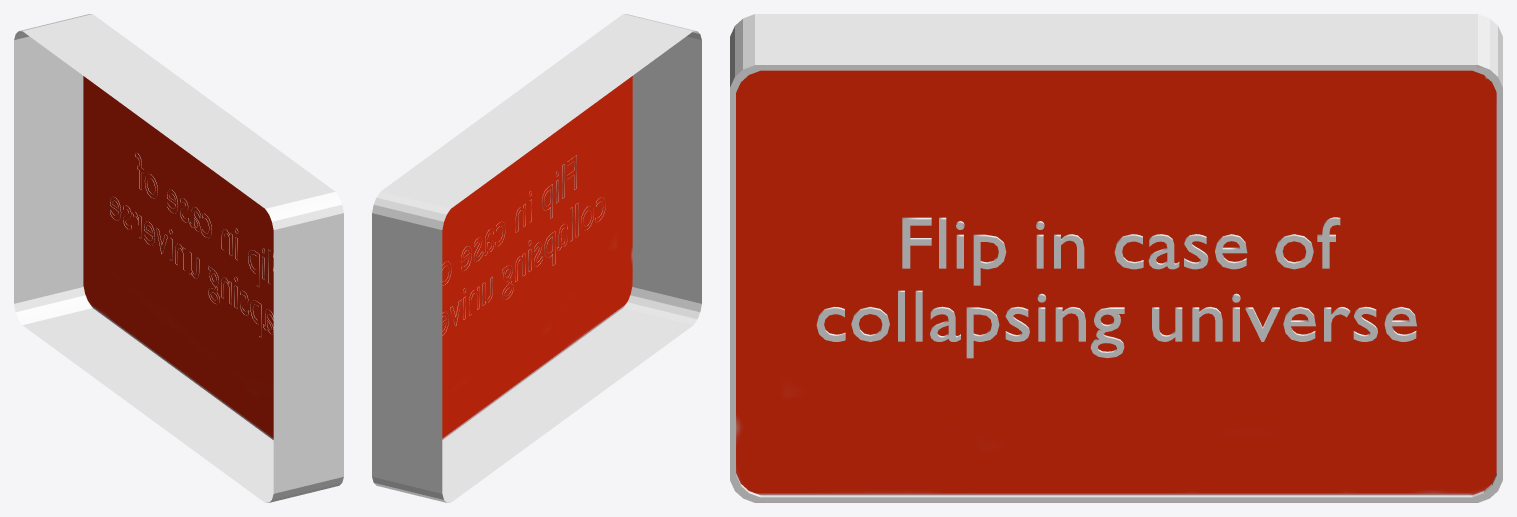
File: WarningSign.fbx
3 views of the same model, side by side, from view 1: azimuth 30°, elevation 25°; view 2: azimuth 150°, elevation 25°; view 3: azimuth 270°, elevation 25° (orthographic). The views are drawn at different scales.
Visible parts, largest first — view 1: Text; view 2: Text; view 3: Text.
Boxes of the visible parts, x1=… form: Text: x1=14, y1=14, x2=343, y2=502; Text: x1=372, y1=14, x2=701, y2=502; Text: x1=730, y1=14, x2=1502, y2=502.
Size of the model in its own units: 6.26 by 25 by 40.
